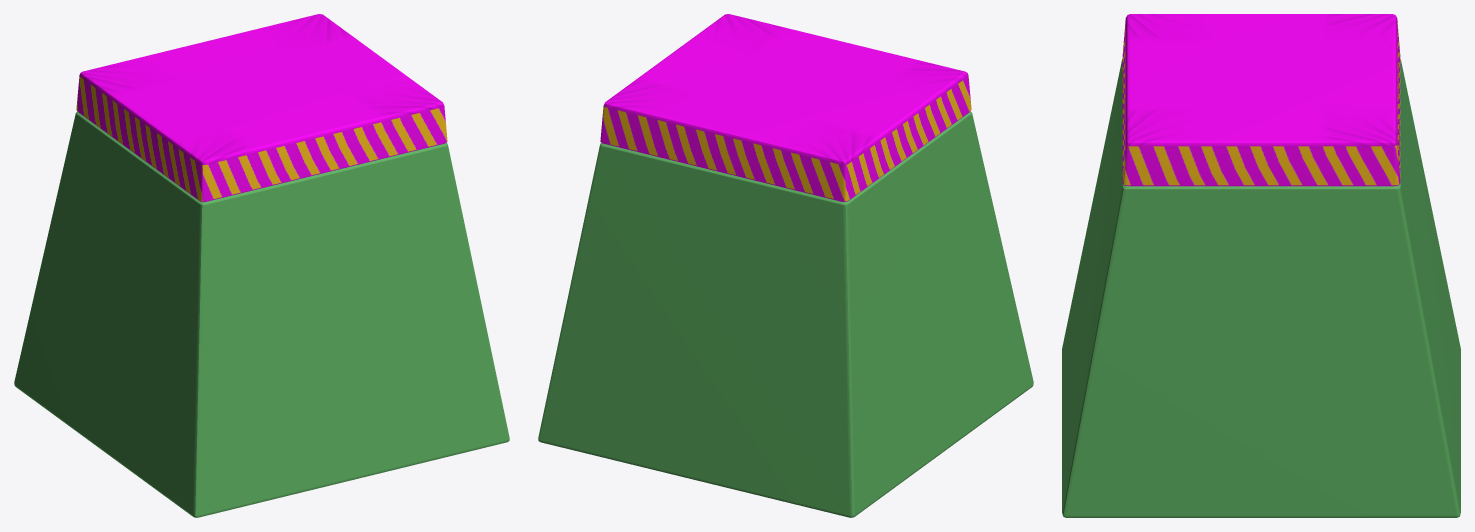
File: PLF0110022.fbx
3 renders of one model, left to right at view 1: azimuth 30°, elevation 25°; view 2: azimuth 150°, elevation 25°; view 3: azimuth 270°, elevation 25°, orthographic. The views are drawn at different scales.
Visible parts, largest first — view 1: smPLF0110022; view 2: smPLF0110022; view 3: smPLF0110022.
Boxes of the visible parts, x1,y1,x2,y2 form: smPLF0110022: [14, 14, 509, 517]; smPLF0110022: [538, 14, 1033, 517]; smPLF0110022: [1062, 14, 1460, 517].
Size of the model in its own units: 345 by 341 by 344.
Materials: 1 (1 with a texture image).
